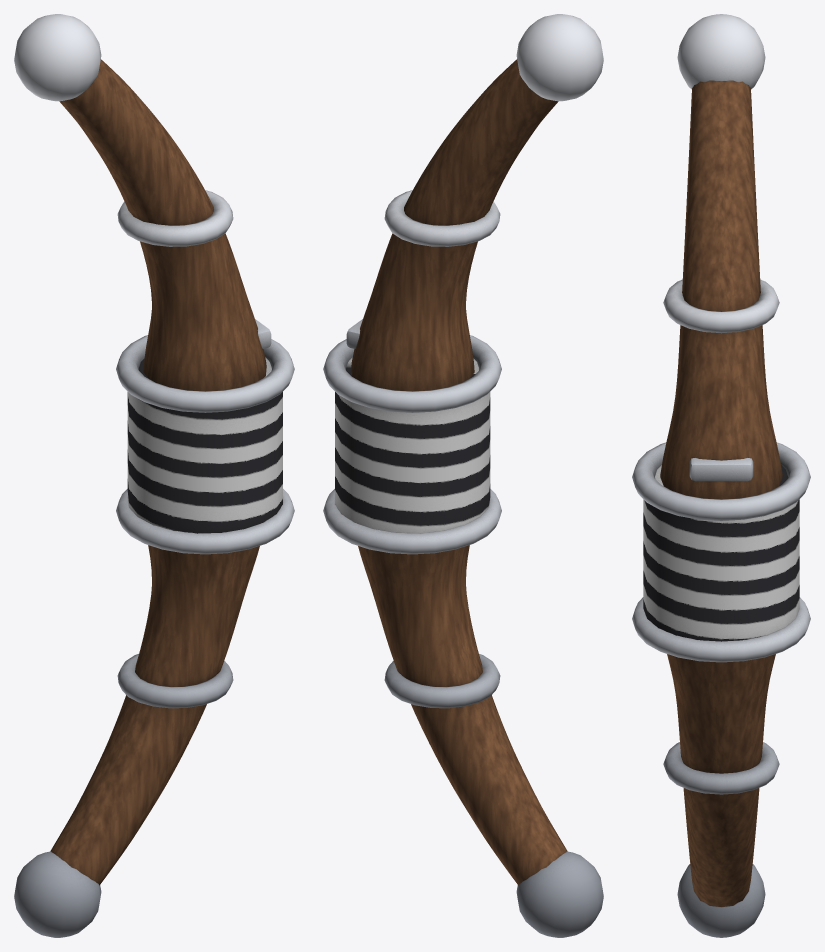
File: Sturdy Bow.fbx
3 renders of one model, left to right at view 1: azimuth 30°, elevation 25°; view 2: azimuth 150°, elevation 25°; view 3: azimuth 270°, elevation 25°, orthographic.
Visible parts, largest first — view 1: Sturdy Bow; view 2: Sturdy Bow; view 3: Sturdy Bow.
Boxes of the visible parts, bbox=[...] form: Sturdy Bow: bbox=[14, 14, 294, 937]; Sturdy Bow: bbox=[323, 14, 603, 937]; Sturdy Bow: bbox=[632, 14, 810, 937].
Size of the model in its own units: 4.28 by 14.24 by 2.52.
Materials: 1 (1 with a texture image).
